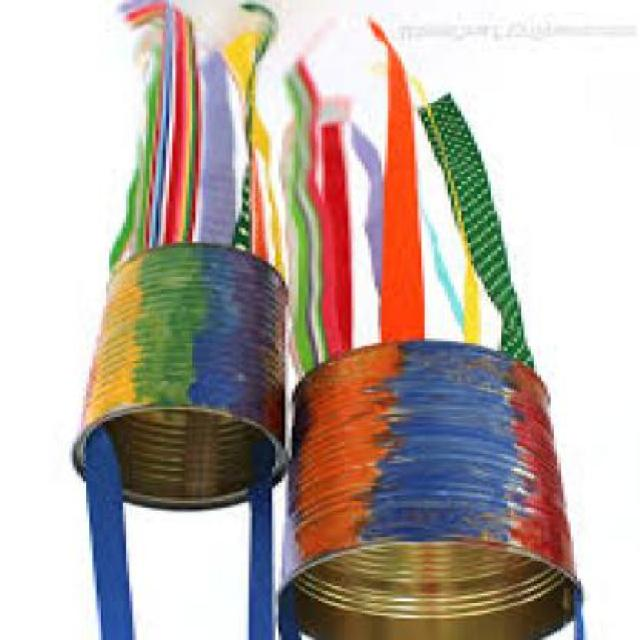METAL: (275, 340, 580, 638), (66, 244, 285, 516)
